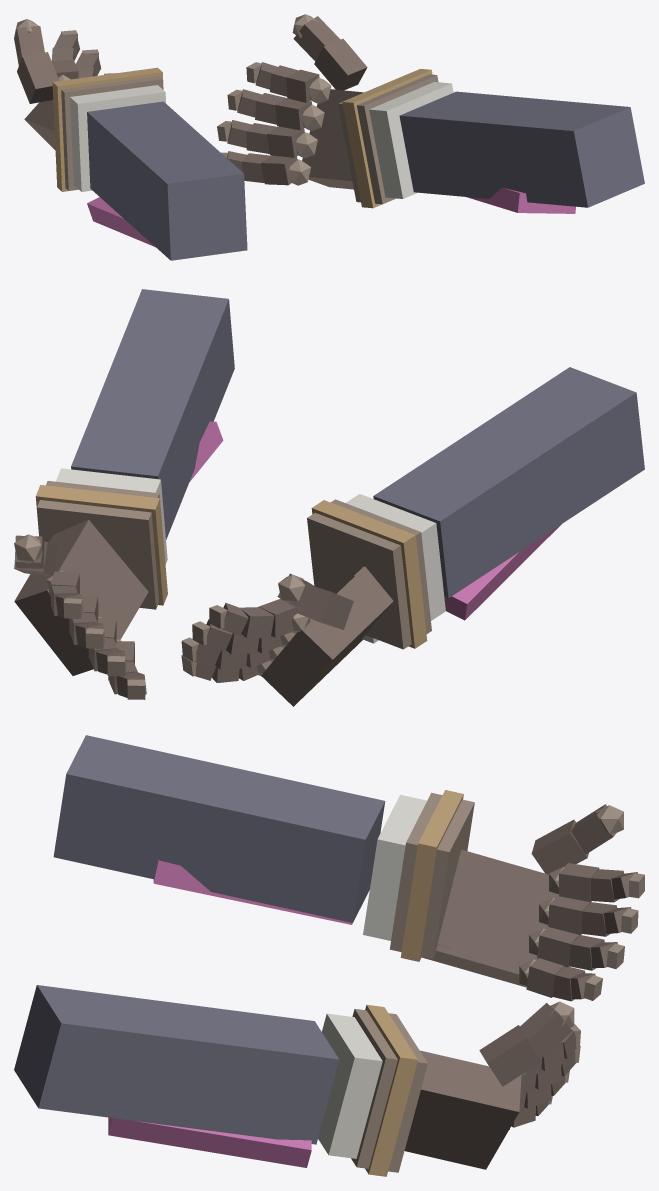
Rendered from viewmodel_arms.glb.
3 renders of one model, top to bottom at view 1: azimuth 30°, elevation 25°; view 2: azimuth 150°, elevation 25°; view 3: azimuth 270°, elevation 25°, orthographic. The views are drawn at different scales.
Visible parts, largest first — view 1: ForearmL, ForearmR, ShirtL, ShirtR, PalmL, GloveCuffL, StrapL, StrapR, GloveCuffR, ThumbL0, ThumbR0, Stole-1 (+20 smaller); view 2: ForearmR, ForearmL, PalmL, GloveCuffR, PalmR, GloveCuffL, StrapR, StrapL, ShirtR, Stole1, ShirtL, ThumbR0 (+7 smaller); view 3: ForearmR, ForearmL, PalmL, PalmR, ShirtL, GloveCuffR, Stole-1, ShirtR, GloveCuffL, StrapR, StrapL, ThumbL0 (+13 smaller).
Boxes of the visible parts, x1,y1,x2,y2 form: ForearmL: (399,91,644,207); ForearmR: (87,101,247,260); ShirtL: (369,82,453,198); ShirtR: (70,85,165,191); PalmL: (302,89,363,189); GloveCuffL: (338,74,438,204); StrapL: (342,69,432,208); StrapR: (52,67,163,191); GloveCuffR: (61,76,163,190); ThumbL0: (314,38,367,90); ThumbR0: (17,52,59,103); Stole-1: (466,187,575,213); ForearmR: (373,367,644,598); ForearmL: (71,289,234,539); PalmL: (14,519,148,675); GloveCuffR: (307,499,431,649); PalmR: (261,566,393,706); GloveCuffL: (37,481,159,609); StrapR: (311,500,427,648); StrapL: (35,485,167,605); ShirtR: (346,494,445,620); Stole1: (444,524,561,620); ShirtL: (56,468,167,563); ThumbR0: (297,587,353,629); ForearmR: (53,735,385,922); ForearmL: (14,985,339,1144); PalmL: (404,1050,521,1169); PalmR: (421,849,557,987); ShirtL: (318,1013,382,1158); GloveCuffR: (389,792,474,958); Stole-1: (108,1117,311,1167); ShirtR: (363,794,426,940); GloveCuffL: (351,1009,427,1172); StrapR: (400,790,463,961); StrapL: (365,1004,417,1176); ThumbL0: (479,1025,541,1086).
Size of the model in its own units: 0.5797 by 0.2527 by 0.5901.
